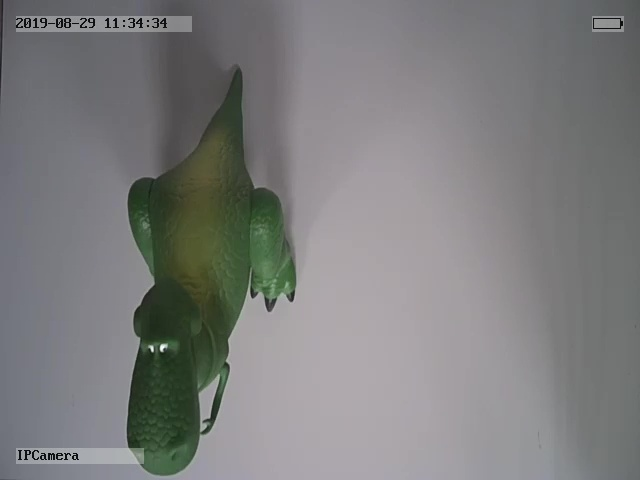rex: (125, 65, 298, 477)
